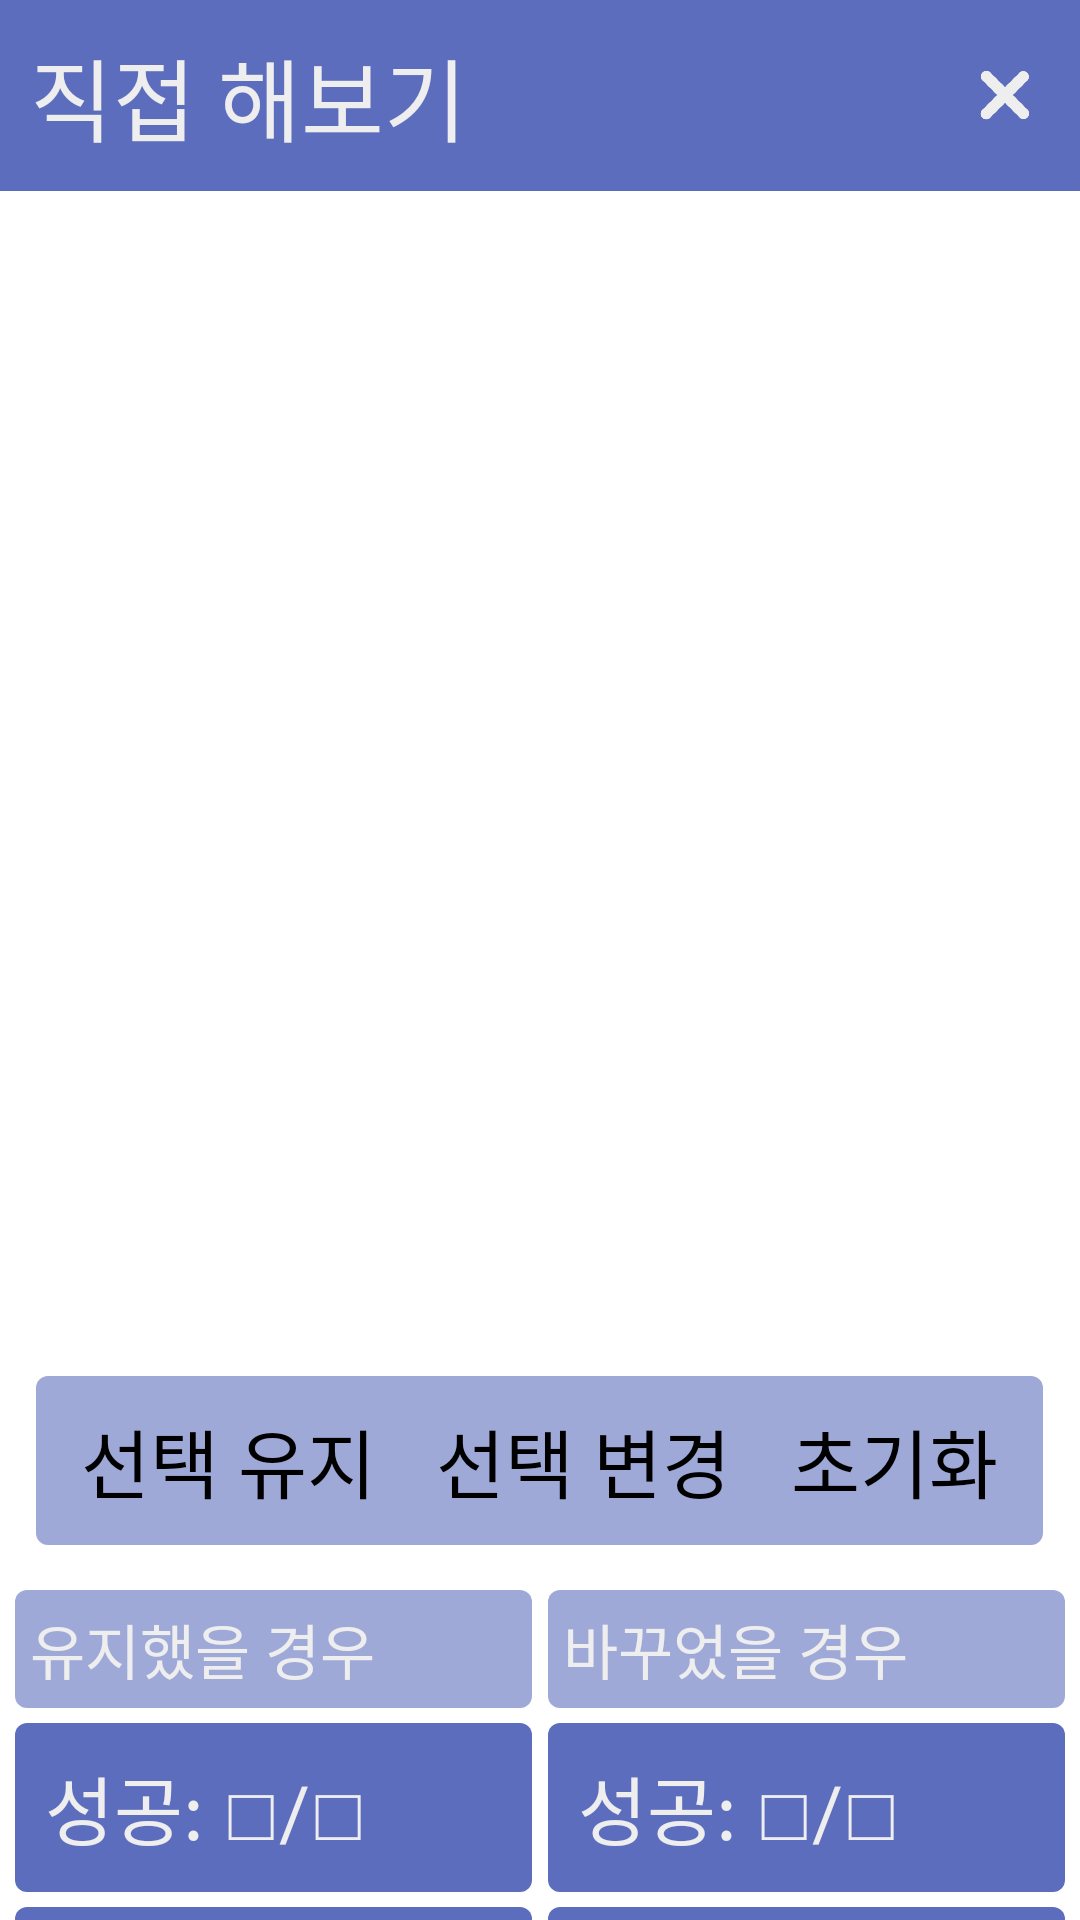

Where icons sit on this 1080px×1920px app screen, as {"x1": x1, "y1": y1, "x2": x2, "y2": y2}:
exit: {"x1": 980, "y1": 71, "x2": 1029, "y2": 120}
